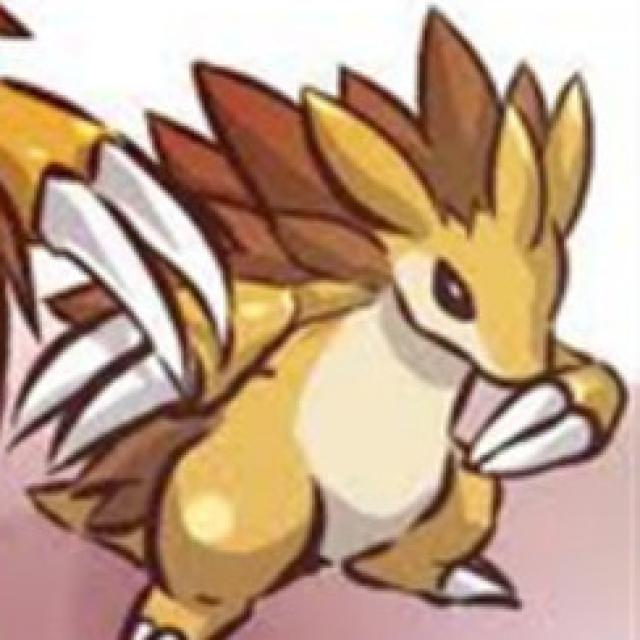Sandslash: (130, 70, 595, 606)
